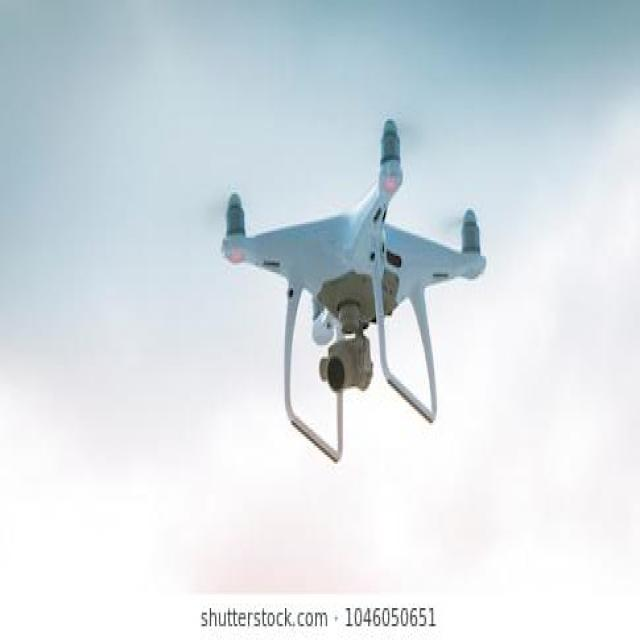drone: (206, 81, 510, 527)
